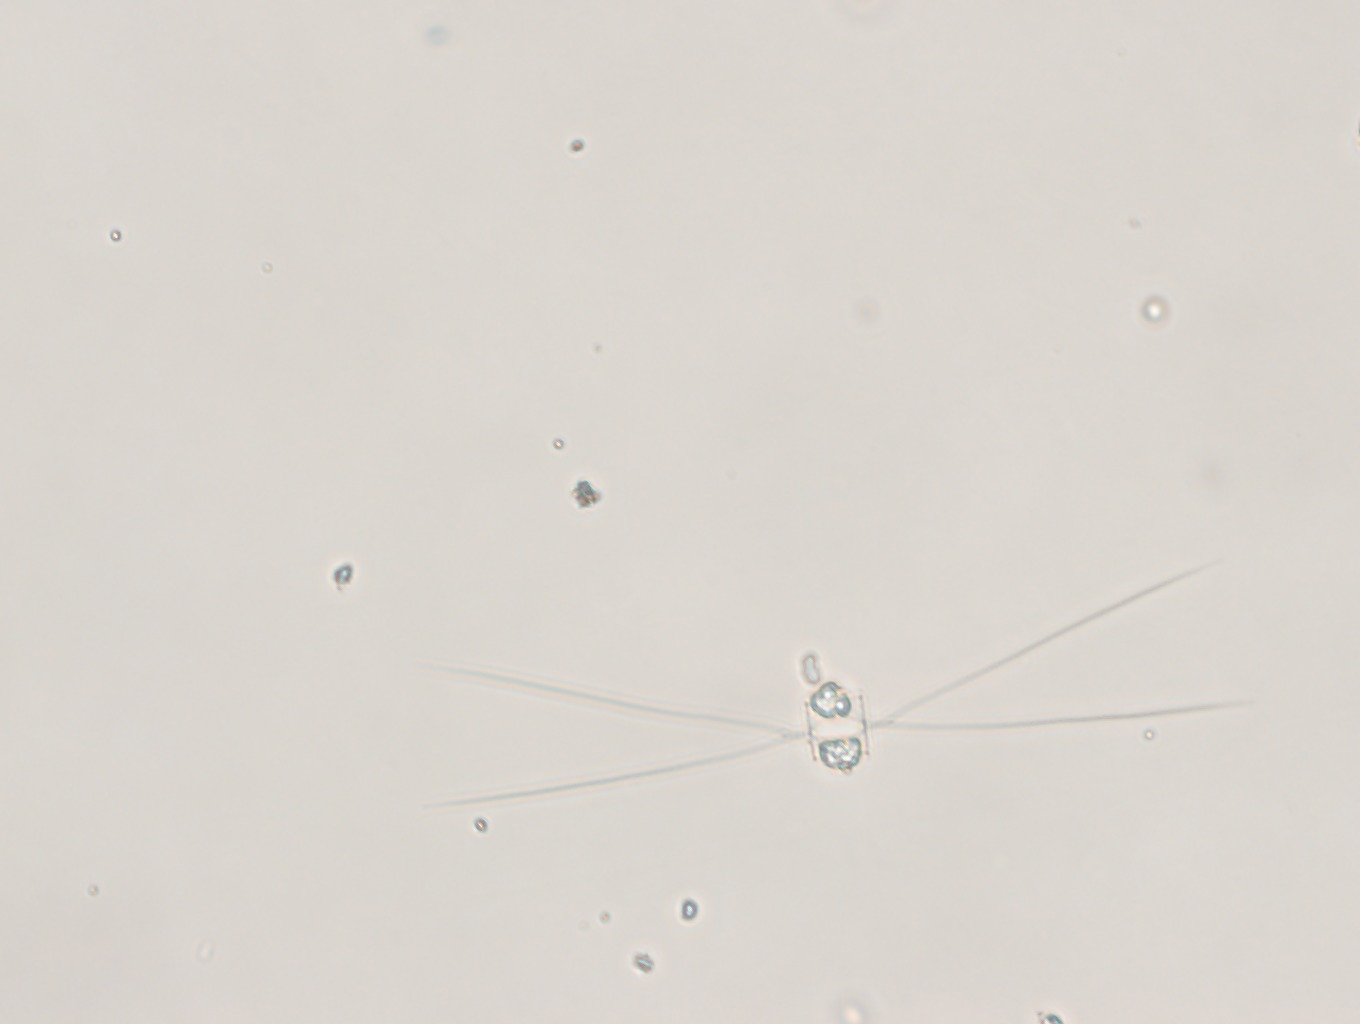chaetoceros: (359, 560, 1256, 815)
